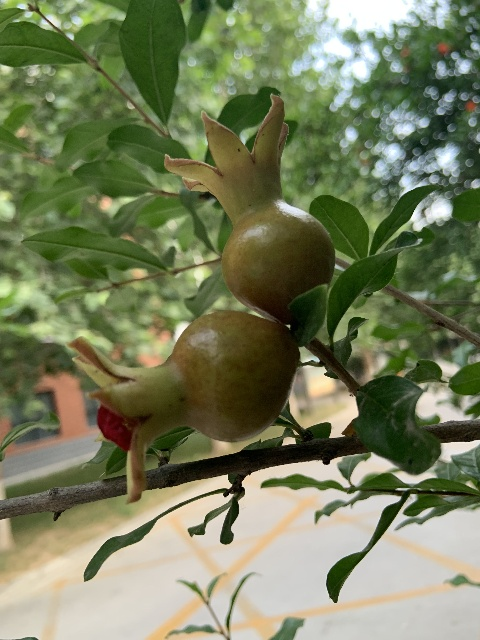early-fruit: (67, 310, 298, 505), (162, 93, 333, 320)
